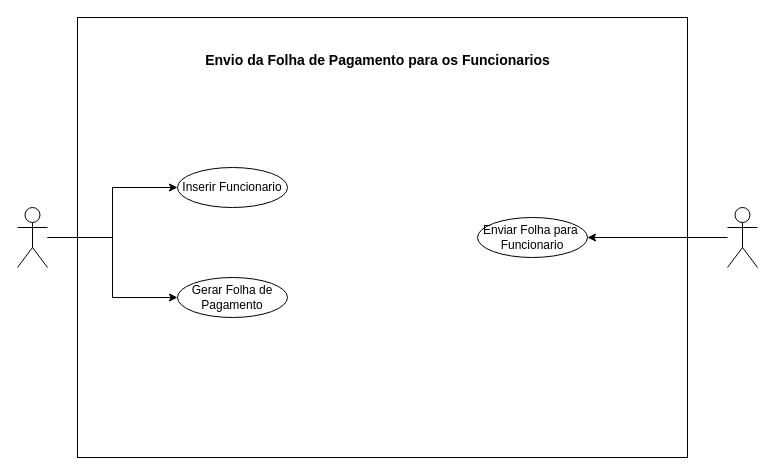
This 780x475 diagram has some shape labels left out. The shapes that lost their labels are listed below. From the top down, each one's centre as x and y in pixels, then its label:
the point at 32,237: User
the point at 742,237: System
